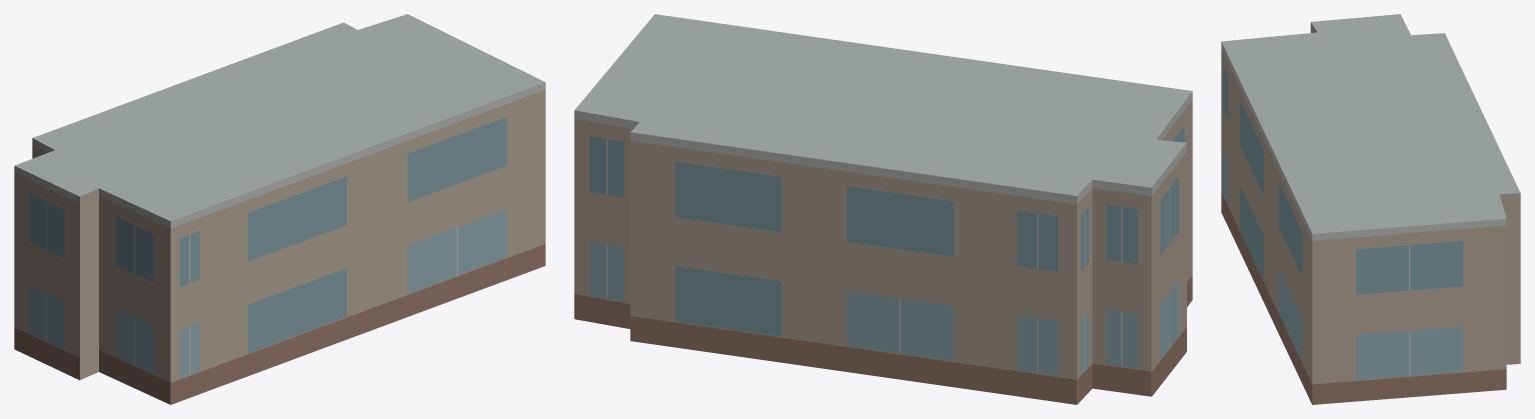
The model's file is survey-upis-32975742.glb.
The picture shows the model from 3 angles, left to right: view 1: azimuth 30°, elevation 25°; view 2: azimuth 150°, elevation 25°; view 3: azimuth 270°, elevation 25°; orthographic projection. The views are drawn at different scales.
Visible parts, largest first — view 1: survey-upis-32975742.tmp; view 2: survey-upis-32975742.tmp; view 3: survey-upis-32975742.tmp.
Boxes of the visible parts, x1,y1,x2,y2 form: survey-upis-32975742.tmp: (14, 14, 545, 404); survey-upis-32975742.tmp: (574, 14, 1192, 404); survey-upis-32975742.tmp: (1221, 14, 1520, 404).
Size of the model in its own units: 16.85 by 6.1 by 9.69.
